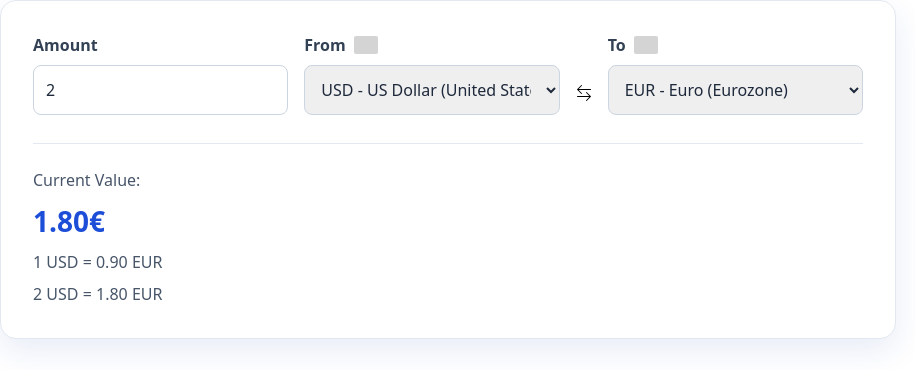
Test: converts a decimal amount
Expected: the text "2 USD = 1.80 EUR" is shown, [33,283,162,305]
Replace the text in the number field labelled "Amount" with "2.5": (161, 90) [33,65,288,115]
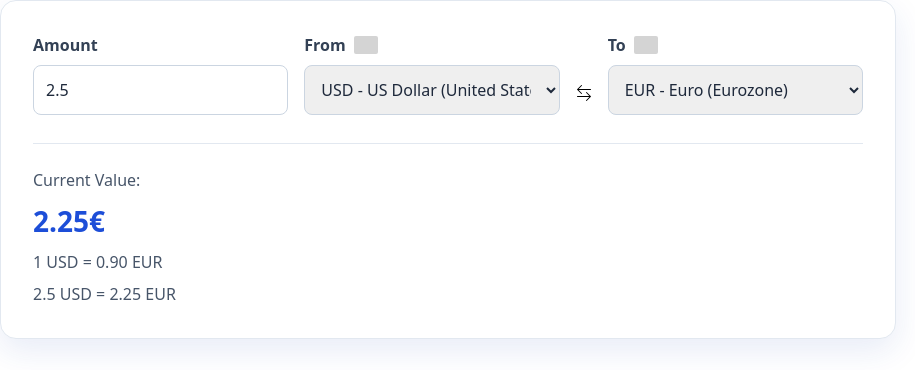
Now the text "2.5 USD = 2.25 EUR" is shown, box [33,283,176,305]
